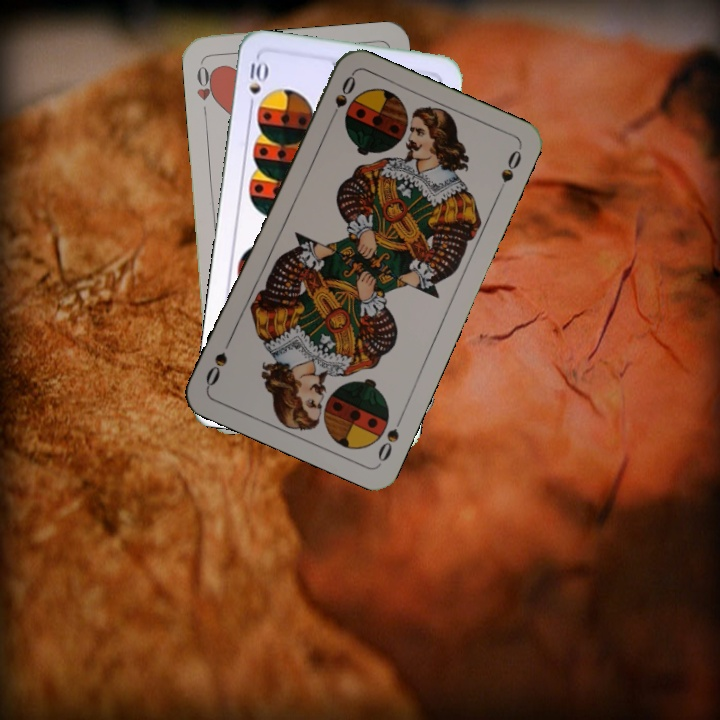HO: (192, 62, 219, 119)
S10: (245, 54, 270, 113)
SO: (324, 71, 359, 127), (373, 410, 406, 465)
